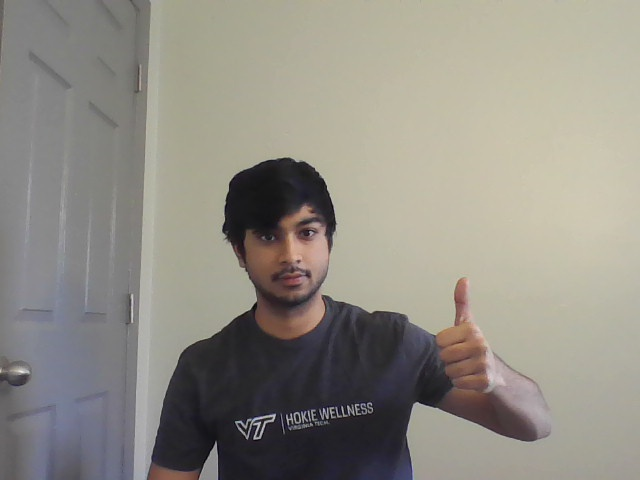confirm: (430, 274, 504, 396)
